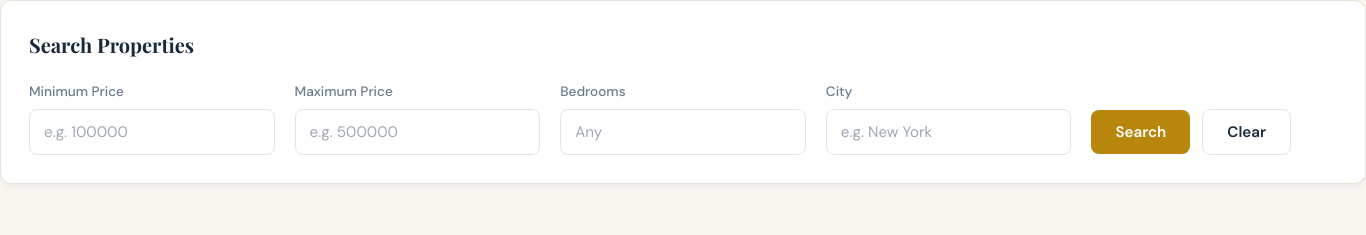
it: PropertyFilter › shows error when minPrice > maxPrice
The width and height of the screenshot is (1366, 235).
Type "600000" into the number field labelled "Minimum Price" at (152, 132), box [29,109,275,155]
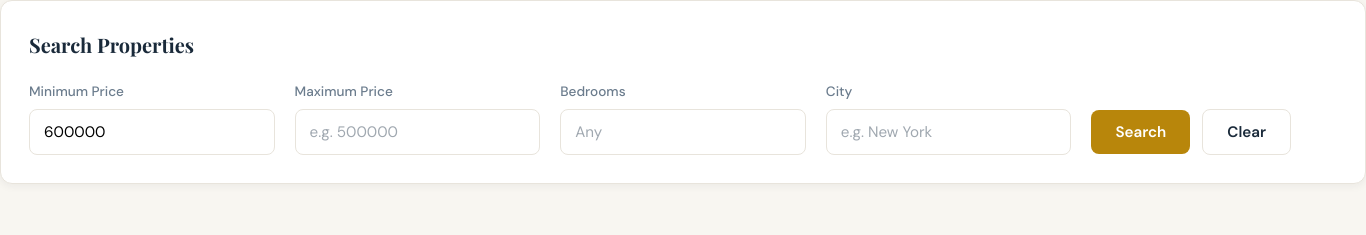
Type "300000" into the number field labelled "Maximum Price" at (417, 132), box [295,109,540,155]
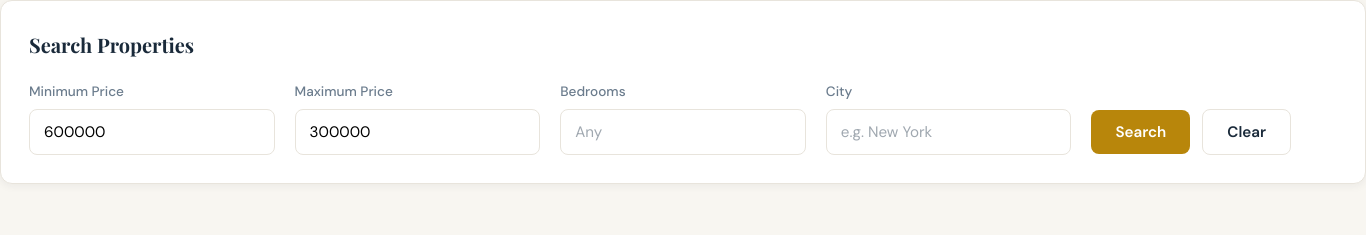
Click the button with test id "filter-button" at (1141, 132), box [1091,110,1190,154]
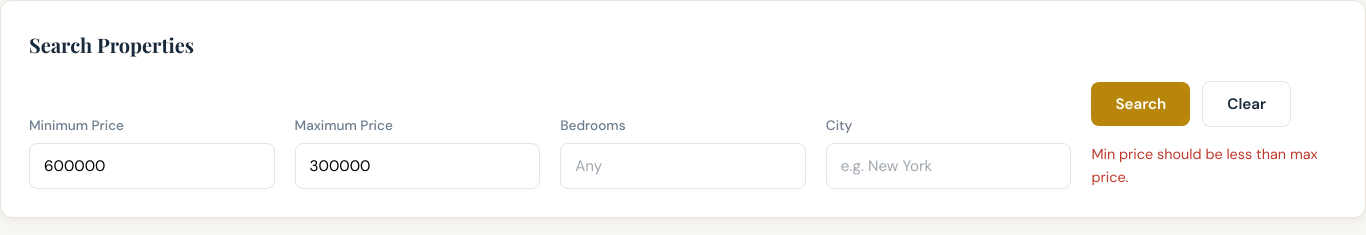
Expected: the text with test id "filter-error" reads "Min price should be less than max price.", [1091,145,1318,186]
